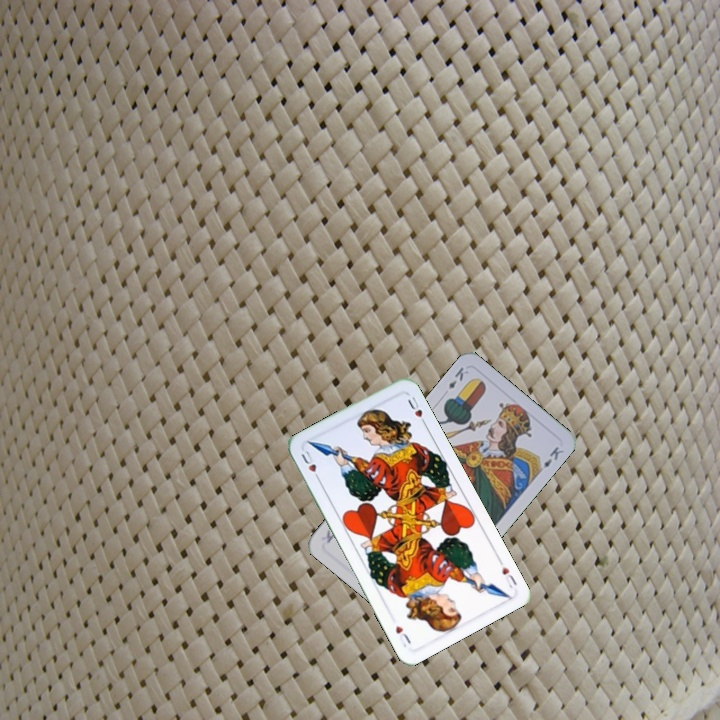EK: (444, 363, 471, 392)
HU: (297, 445, 323, 484), (498, 562, 520, 591)
